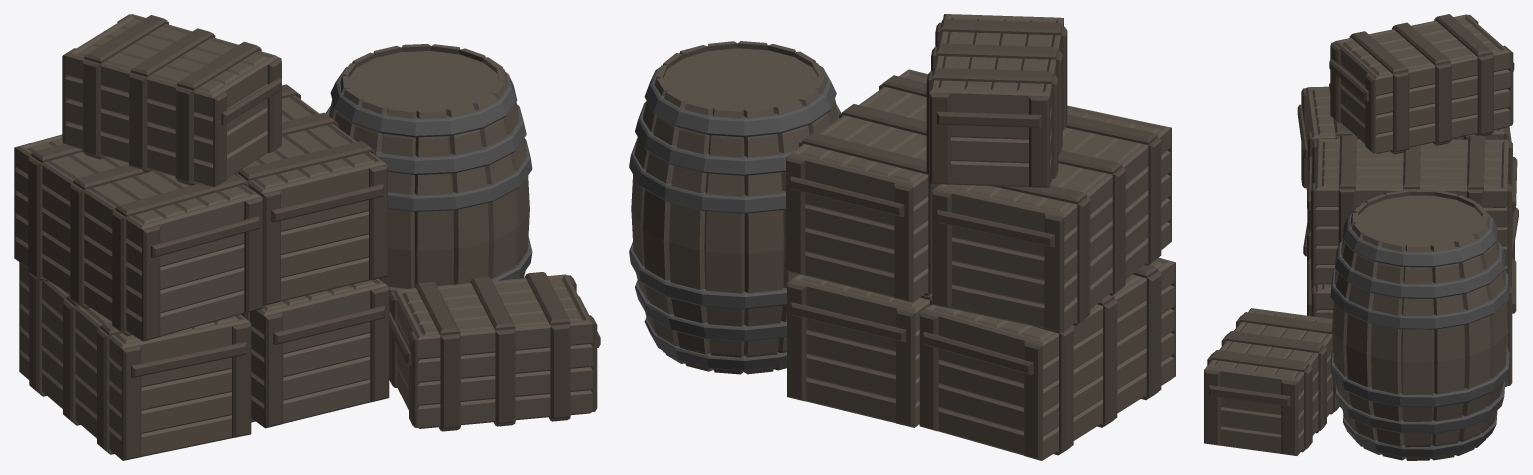
File: Prop_Crate_Pile_02.fbx
The picture shows the model from 3 angles, left to right: view 1: azimuth 30°, elevation 25°; view 2: azimuth 150°, elevation 25°; view 3: azimuth 270°, elevation 25°; orthographic projection. The views are drawn at different scales.
Parts seen in each view (by area): view 1: Prop_Crate_Pile_02_LOD0; view 2: Prop_Crate_Pile_02_LOD0; view 3: Prop_Crate_Pile_02_LOD0.
Boxes of the visible parts, box(x1,y1,x2,y2) form: Prop_Crate_Pile_02_LOD0: box(14, 14, 600, 460); Prop_Crate_Pile_02_LOD0: box(629, 14, 1175, 460); Prop_Crate_Pile_02_LOD0: box(1204, 14, 1518, 460).
Size of what is drawn, in the model's own units: 166 by 119 by 118.
